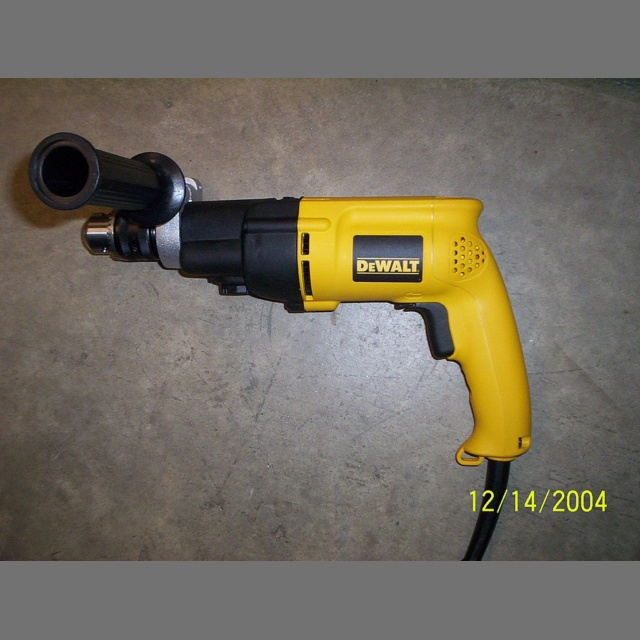drill: (29, 131, 534, 465)
